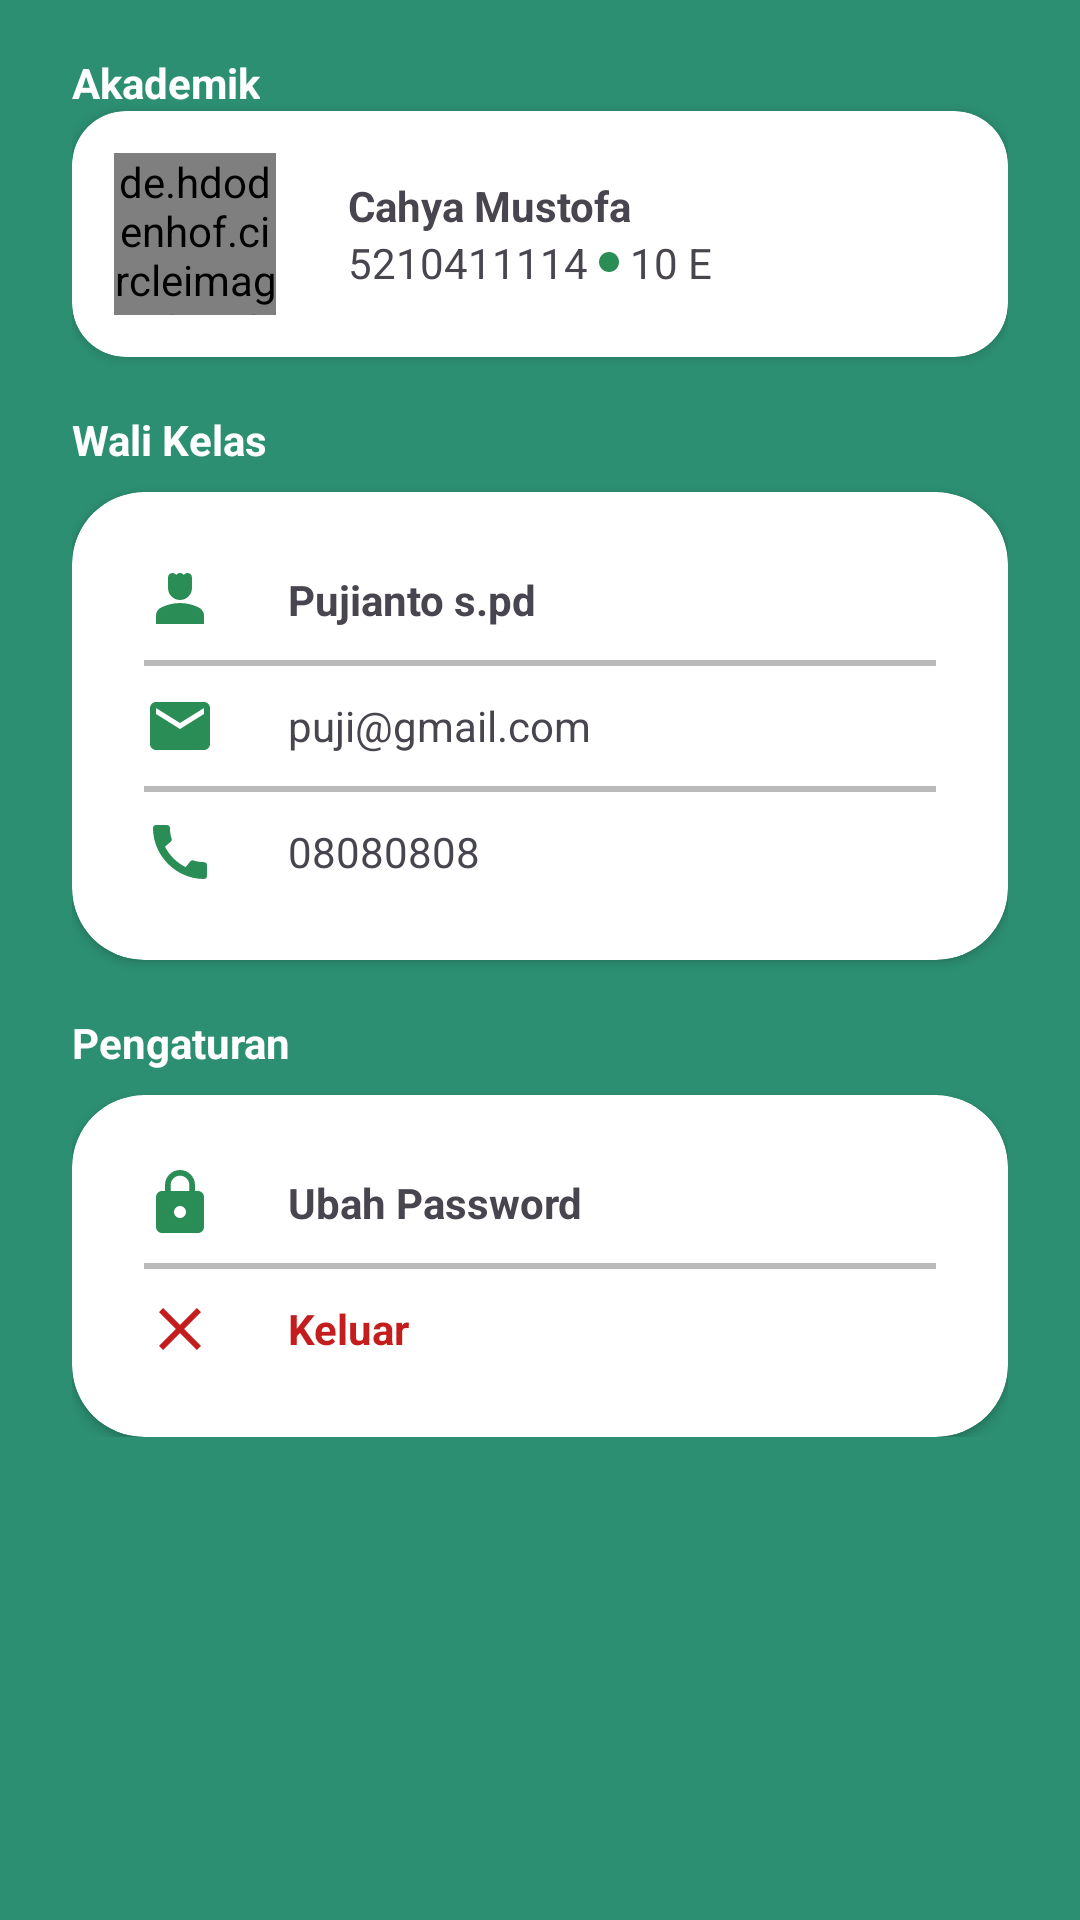

Icon click points for this 1080 × 1920 phone screenshot, format point (x, y):
call: point (180, 852)
close: point (180, 1329)
email: point (180, 726)
lock: point (180, 1201)
